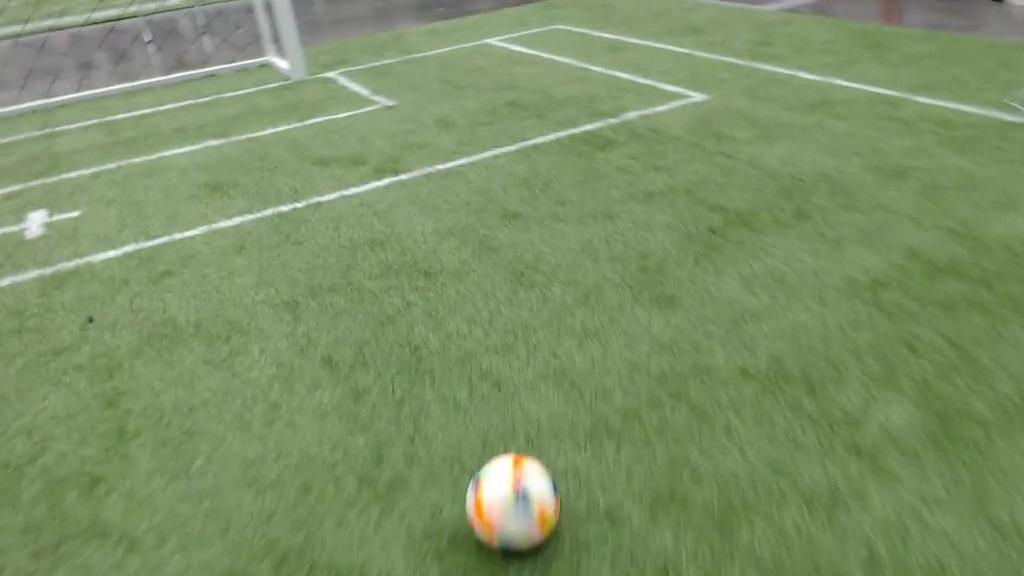ball: (466, 451, 559, 553)
